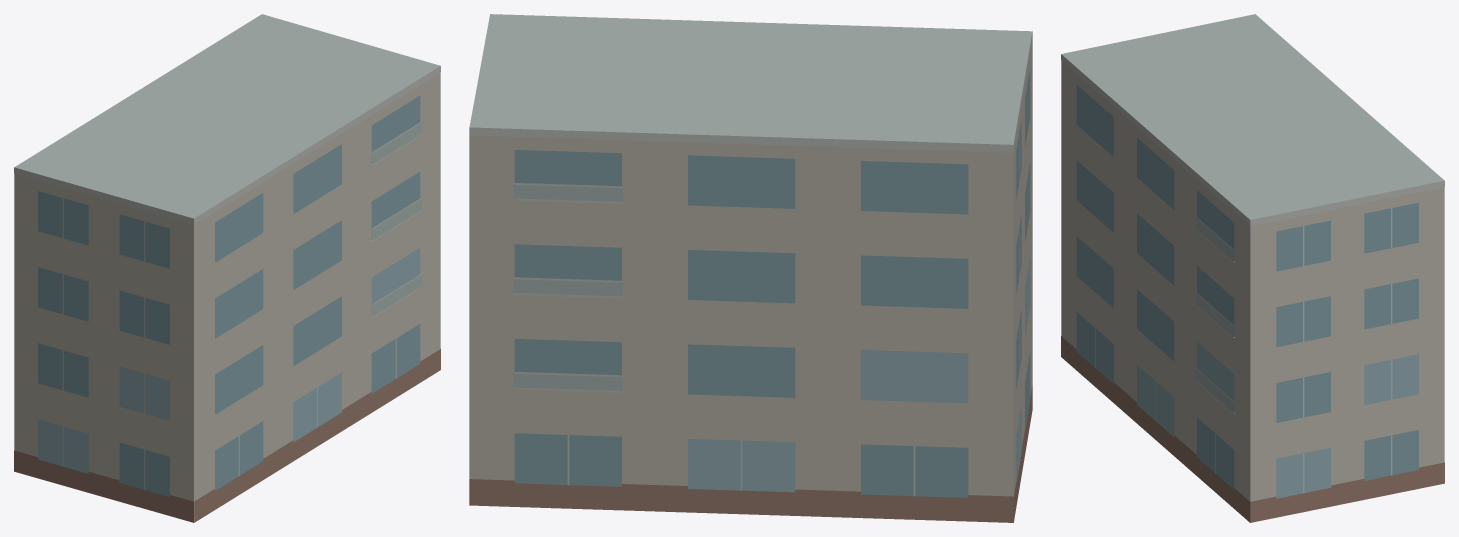
Rendered from survey-upis-32737868.glb.
3 renders of one model, left to right at view 1: azimuth 30°, elevation 25°; view 2: azimuth 150°, elevation 25°; view 3: azimuth 270°, elevation 25°, orthographic. The views are drawn at different scales.
Visible parts, largest first — view 1: survey-upis-32737868.tmp; view 2: survey-upis-32737868.tmp; view 3: survey-upis-32737868.tmp.
Part boxes in pixels (x1=…): survey-upis-32737868.tmp: x1=14, y1=14, x2=440, y2=522; survey-upis-32737868.tmp: x1=469, y1=14, x2=1032, y2=522; survey-upis-32737868.tmp: x1=1061, y1=14, x2=1444, y2=522.
Size of the model in its own units: 17.07 by 11.7 by 13.44.
